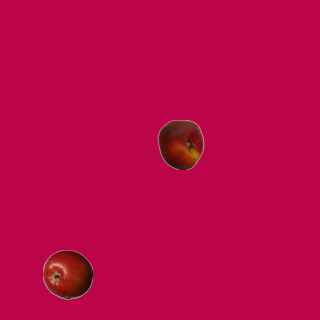Apple Braeburn: (42, 249, 92, 299)
Nectarine Flat: (155, 119, 205, 169)
